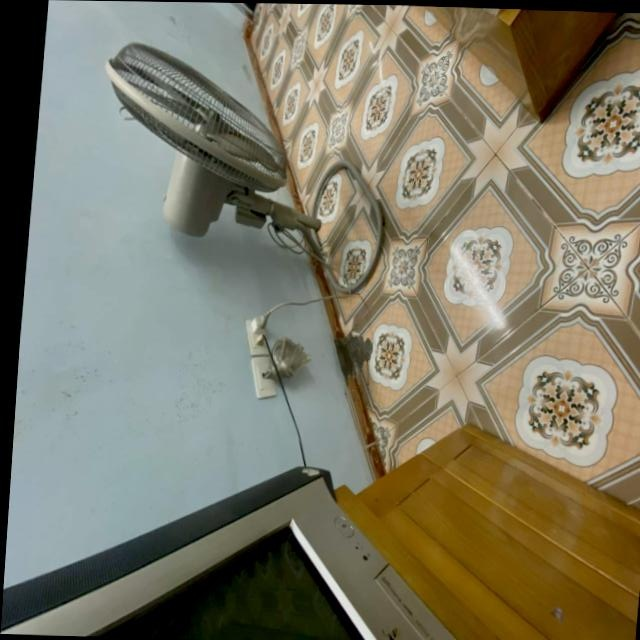outlet: (247, 357, 280, 400), (242, 317, 274, 357)
